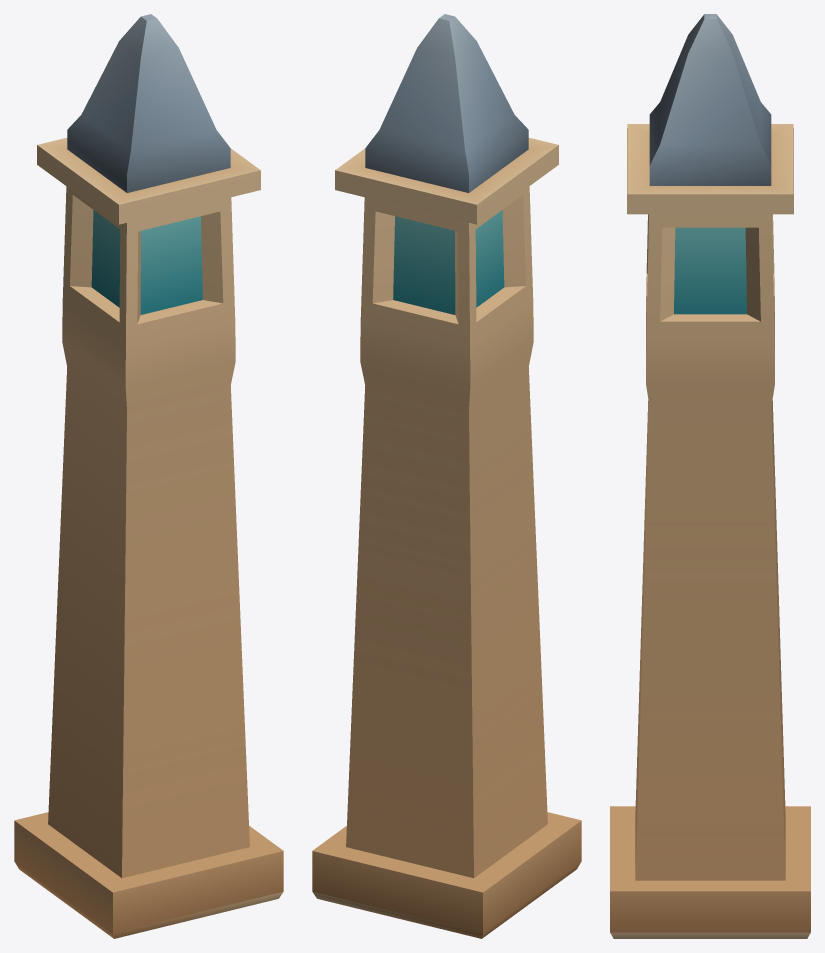
File: LightTower03.fbx
3 views of the same model, side by side, from view 1: azimuth 30°, elevation 25°; view 2: azimuth 150°, elevation 25°; view 3: azimuth 270°, elevation 25° (orthographic).
Visible parts, largest first — view 1: LightTower03; view 2: LightTower03; view 3: LightTower03.
Part boxes in pixels (box(x1,y1,x2,y2)): LightTower03: box(14, 14, 283, 938); LightTower03: box(312, 14, 581, 938); LightTower03: box(610, 14, 810, 938).
Size of the model in its own units: 0.6533 by 3.17 by 0.6533.
Materials: 1 (1 with a texture image).
